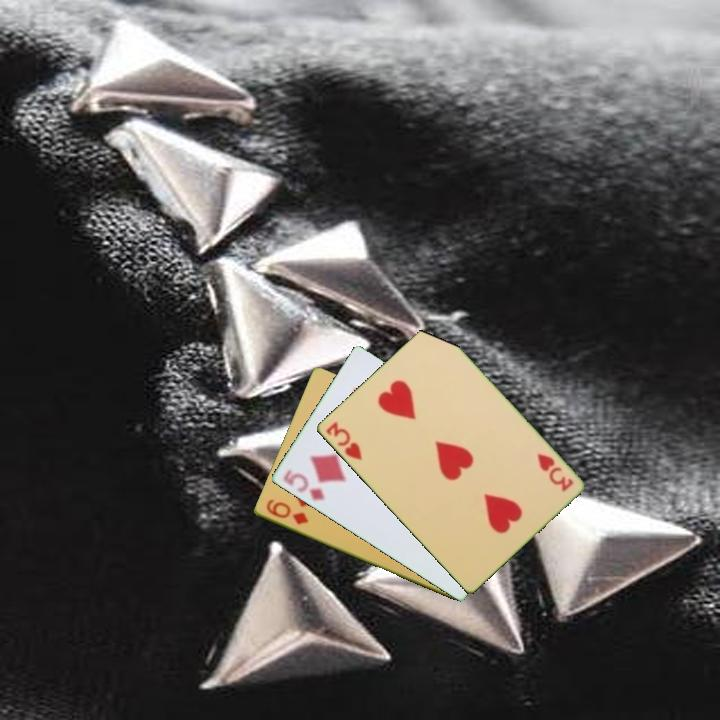3h: (322, 418, 365, 463), (533, 450, 576, 494)
5d: (279, 466, 327, 504)
6d: (262, 496, 311, 528)
